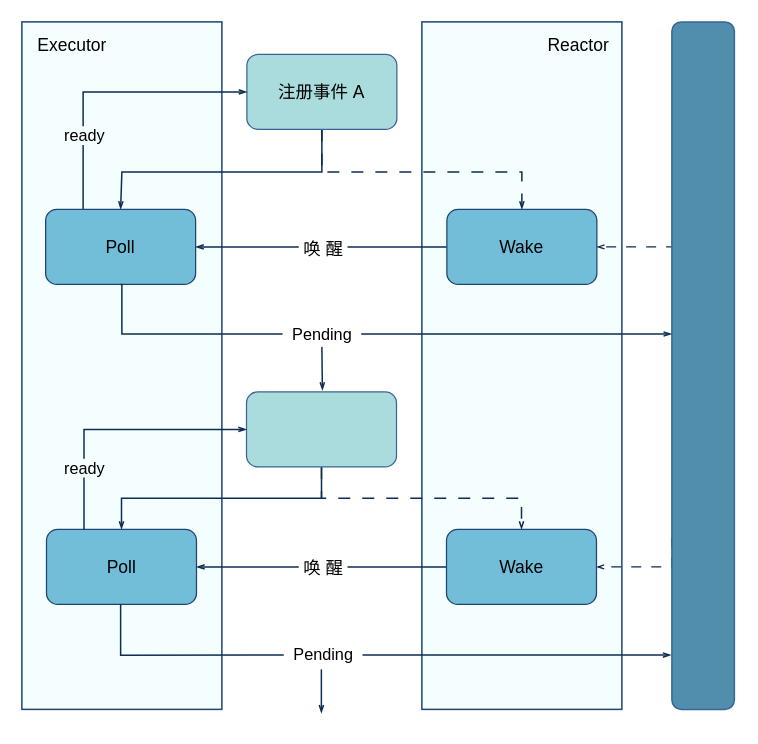
Some shapes in this 758 by 744 pixel diagram are drawn without their labels. Each missing label, with the box of its shape:
异 步 操 作: (670, 20, 734, 710)
注册事件 B: (245, 391, 396, 467)
